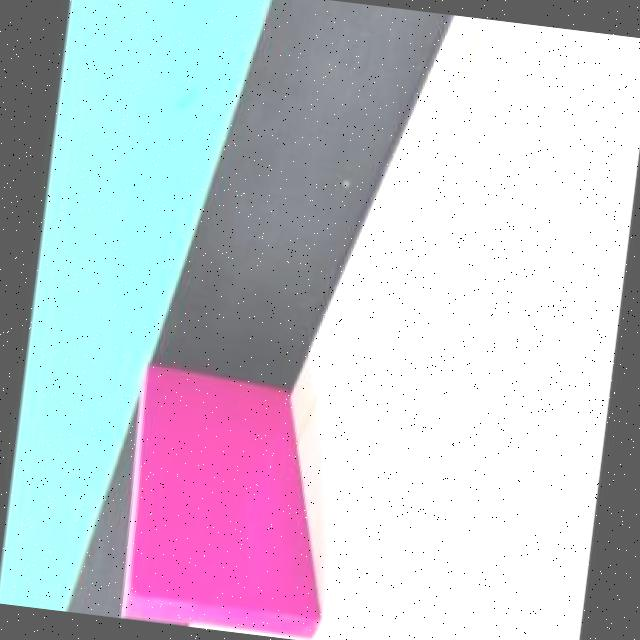xparking: (124, 381, 341, 633)
